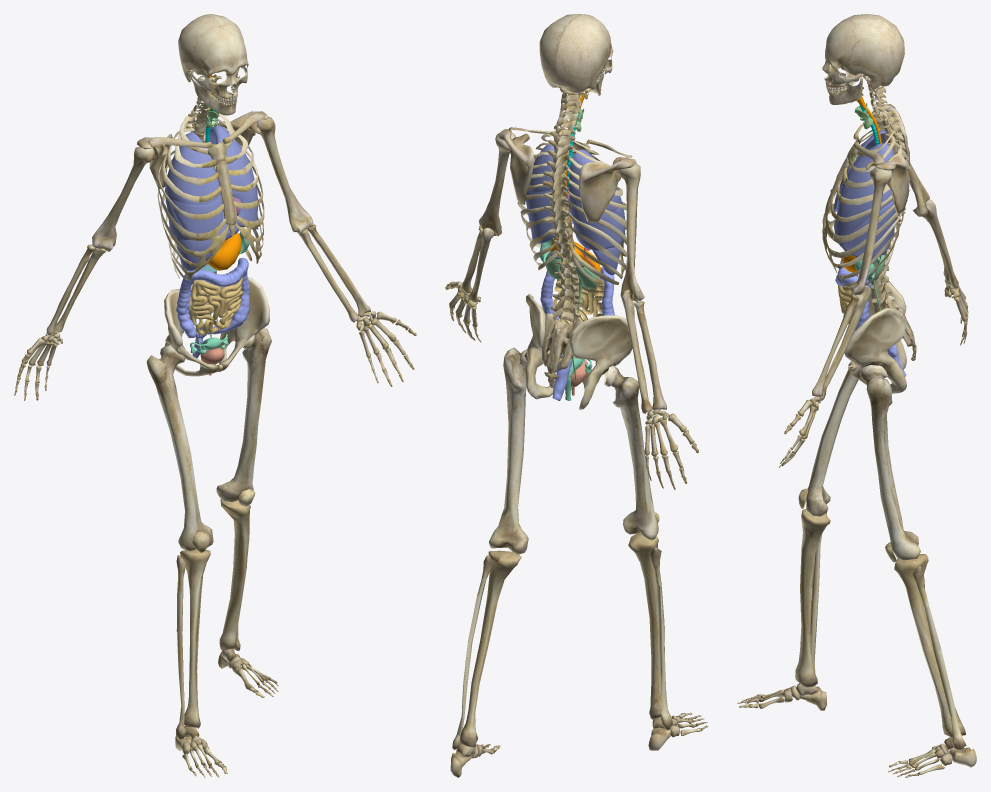
The model's file is anatomy-female.glb.
3 views of the same model, side by side, from view 1: azimuth 30°, elevation 25°; view 2: azimuth 150°, elevation 25°; view 3: azimuth 270°, elevation 25° (orthographic). The views are drawn at different scales.
Visible parts, largest first — view 1: jss_Leg_R:Layer2 native cutaway anatomy, jss_Torso_R:Layer1 native cutaway anatomy, jss_Torso_R:Layer3 native cutaway anatomy, jss_Leg_L:Layer2 native cutaway anatomy, jss_Torso_L:Layer3 native cutaway anatomy, jss_Arm_L:Layer2 native cutaway anatomy, jss_Torso_L:Layer1 native cutaway anatomy, jss_Arm_R:Layer2 native cutaway anatomy, jss_Head_R:Layer3 native cutaway anatomy, jss_Head_L:Layer3 native cutaway anatomy; view 2: jss_Torso_R:Layer3 native cutaway anatomy, jss_Leg_L:Layer2 native cutaway anatomy, jss_Leg_R:Layer2 native cutaway anatomy, jss_Arm_R:Layer2 native cutaway anatomy, jss_Torso_L:Layer3 native cutaway anatomy, jss_Torso_R:Layer1 native cutaway anatomy, jss_Head_R:Layer3 native cutaway anatomy, jss_Torso_L:Layer1 native cutaway anatomy, jss_Arm_L:Layer2 native cutaway anatomy, jss_Torso_R:Layer4 native cutaway anatomy, jss_Torso_L:Layer4 native cutaway anatomy, jss_Head_L:Layer3 native cutaway anatomy (+3 smaller); view 3: jss_Torso_L:Layer3 native cutaway anatomy, jss_Leg_L:Layer2 native cutaway anatomy, jss_Leg_R:Layer2 native cutaway anatomy, jss_Head_L:Layer3 native cutaway anatomy, jss_Torso_L:Layer1 native cutaway anatomy, jss_Arm_L:Layer2 native cutaway anatomy, jss_Arm_R:Layer2 native cutaway anatomy, jss_Torso_R:Layer3 native cutaway anatomy, jss_Torso_L:Layer4 native cutaway anatomy, jss_Leg_L:Layer3 native cutaway anatomy, jss_Leg_R:Layer3 native cutaway anatomy, jss_Torso_R:Layer1 native cutaway anatomy (+2 smaller).
Boxes of the visible parts, <box> form: jss_Leg_R:Layer2 native cutaway anatomy: <box>146,345,227,777</box>; jss_Torso_R:Layer1 native cutaway anatomy: <box>165,125,241,375</box>; jss_Torso_R:Layer3 native cutaway anatomy: <box>137,115,232,376</box>; jss_Leg_L:Layer2 native cutaway anatomy: <box>216,327,278,697</box>; jss_Torso_L:Layer3 native cutaway anatomy: <box>190,111,269,371</box>; jss_Arm_L:Layer2 native cutaway anatomy: <box>256,117,416,386</box>; jss_Torso_L:Layer1 native cutaway anatomy: <box>192,125,258,375</box>; jss_Arm_R:Layer2 native cutaway anatomy: <box>14,146,154,400</box>; jss_Head_R:Layer3 native cutaway anatomy: <box>178,15,234,115</box>; jss_Head_L:Layer3 native cutaway anatomy: <box>205,14,248,114</box>; jss_Torso_R:Layer3 native cutaway anatomy: <box>550,139,636,409</box>; jss_Leg_L:Layer2 native cutaway anatomy: <box>452,347,542,754</box>; jss_Leg_R:Layer2 native cutaway anatomy: <box>604,365,708,735</box>; jss_Arm_R:Layer2 native cutaway anatomy: <box>619,163,698,489</box>; jss_Torso_L:Layer3 native cutaway anatomy: <box>498,127,585,399</box>; jss_Torso_R:Layer1 native cutaway anatomy: <box>563,134,625,400</box>; jss_Head_R:Layer3 native cutaway anatomy: <box>556,14,613,95</box>; jss_Torso_L:Layer1 native cutaway anatomy: <box>526,145,596,400</box>; jss_Arm_L:Layer2 native cutaway anatomy: <box>445,132,515,342</box>; jss_Torso_R:Layer4 native cutaway anatomy: <box>553,128,580,322</box>; jss_Torso_L:Layer4 native cutaway anatomy: <box>542,124,574,320</box>; jss_Head_L:Layer3 native cutaway anatomy: <box>539,14,594,92</box>; jss_Torso_L:Layer3 native cutaway anatomy: <box>822,126,916,393</box>; jss_Leg_L:Layer2 native cutaway anatomy: <box>860,365,965,777</box>; jss_Leg_R:Layer2 native cutaway anatomy: <box>737,369,858,708</box>; jss_Head_L:Layer3 native cutaway anatomy: <box>822,17,904,104</box>; jss_Torso_L:Layer1 native cutaway anatomy: <box>834,125,906,376</box>; jss_Arm_L:Layer2 native cutaway anatomy: <box>779,167,892,467</box>; jss_Arm_R:Layer2 native cutaway anatomy: <box>872,110,968,345</box>; jss_Torso_R:Layer3 native cutaway anatomy: <box>822,104,916,369</box>; jss_Torso_L:Layer4 native cutaway anatomy: <box>870,117,910,312</box>; jss_Leg_L:Layer3 native cutaway anatomy: <box>931,737,976,767</box>; jss_Leg_R:Layer3 native cutaway anatomy: <box>783,683,826,710</box>; jss_Torso_R:Layer1 native cutaway anatomy: <box>833,130,885,318</box>.
Bounding box in the file's own units: 82.41 × 173 × 52.15.
Materials: 66 (24 with a texture image).
